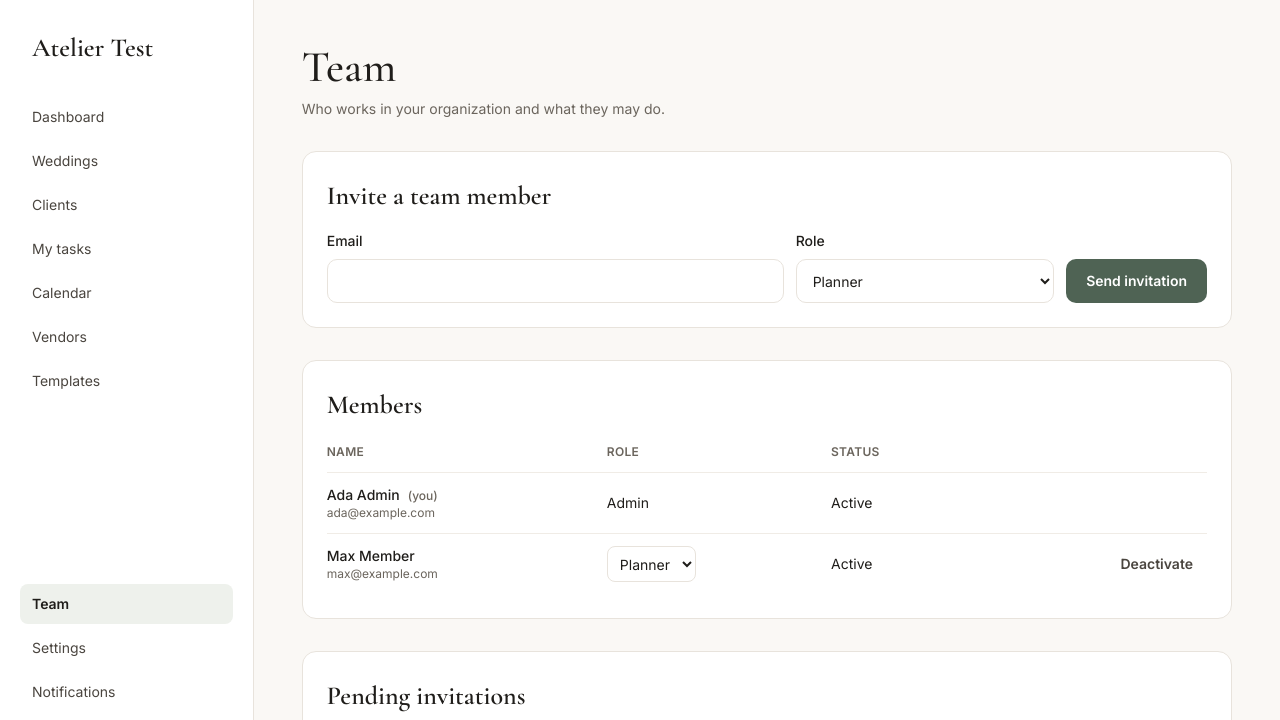
Test: invites a team member
In the field labelled "Email": (555,281) [327,259,784,303], type "new@example.com"
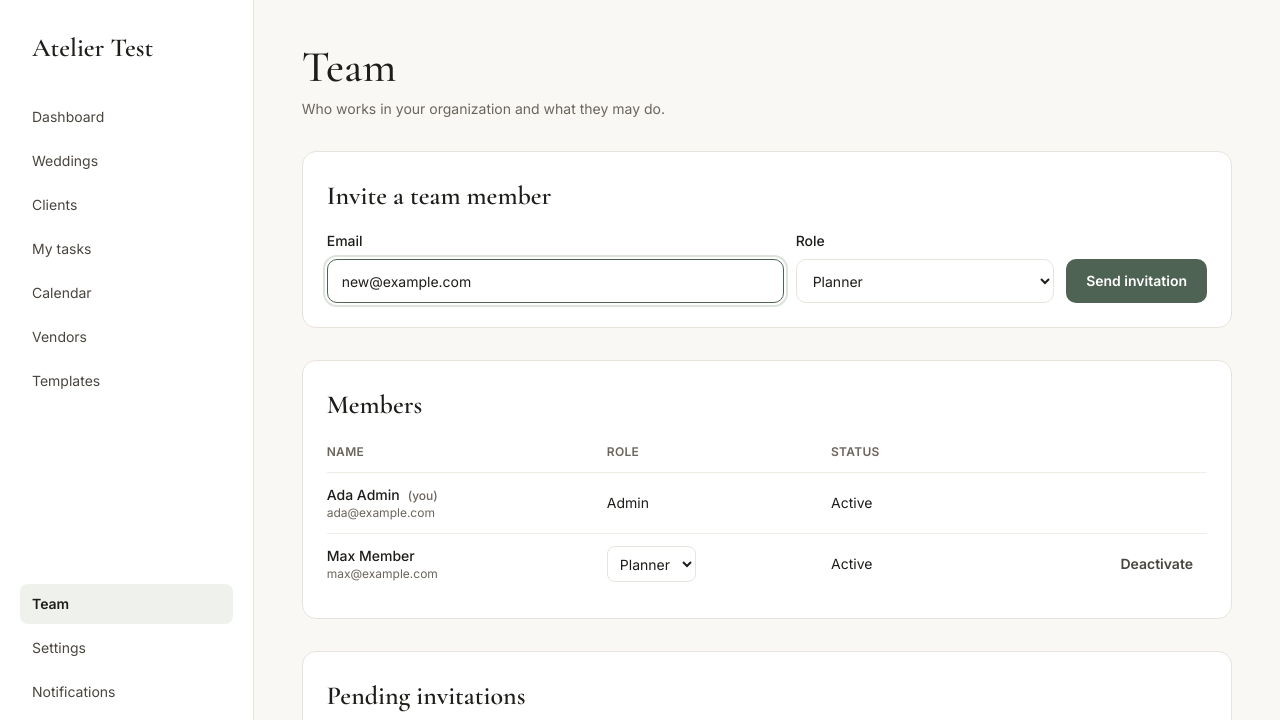
Select "Admin" in the dropdown labelled "Role": (925,281) [796,259,1054,303]
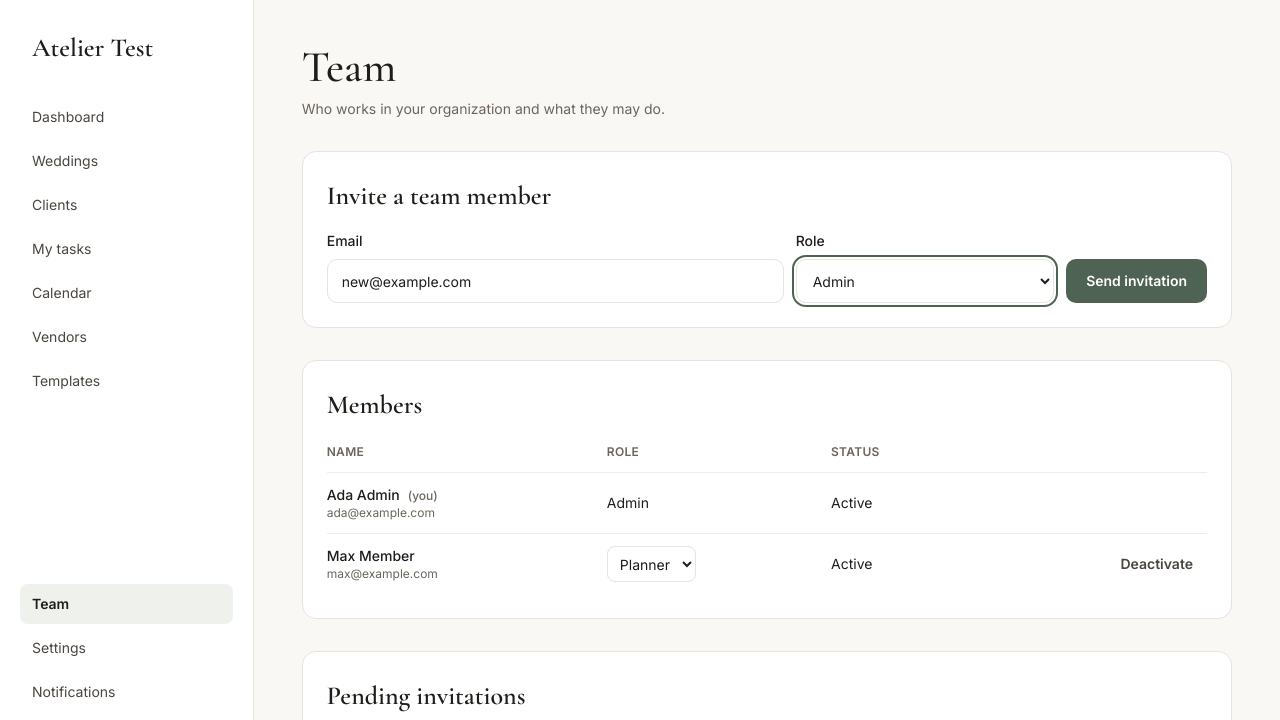
Click the button "Send invitation": (1137,281) [1066,259,1207,303]
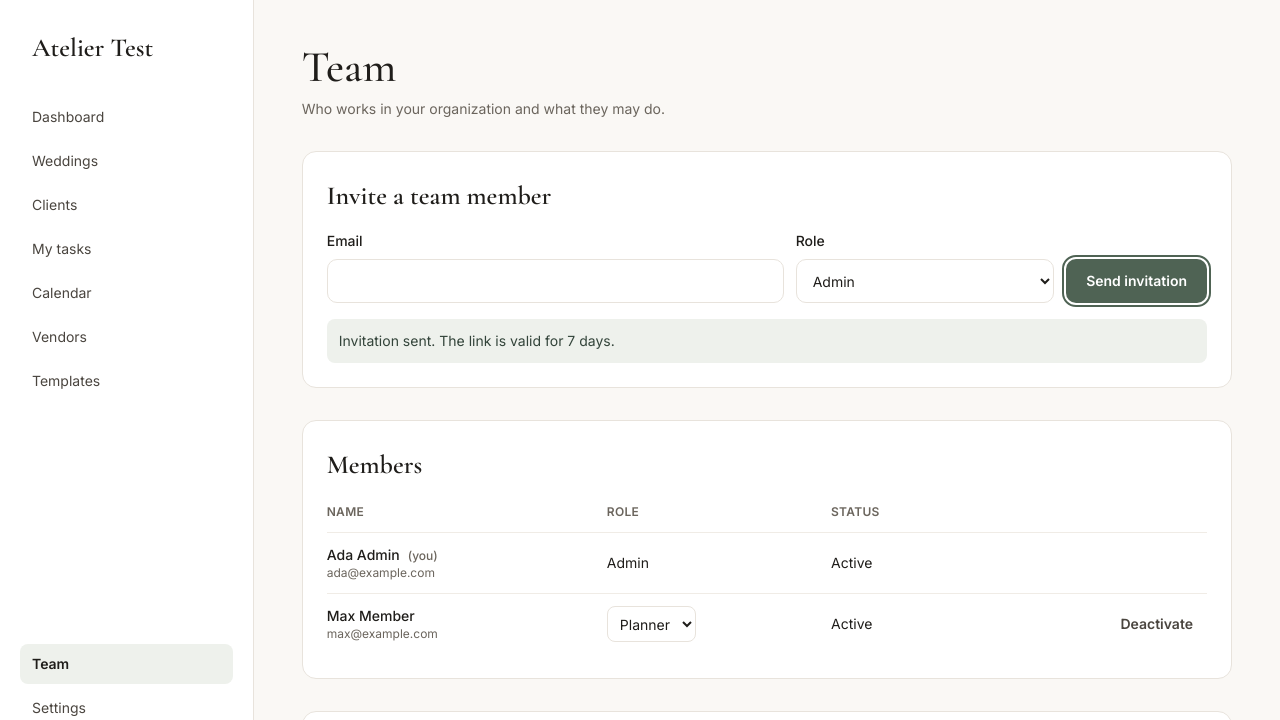
Expected: the text "Invitation sent" is shown, [339,332,615,349]
